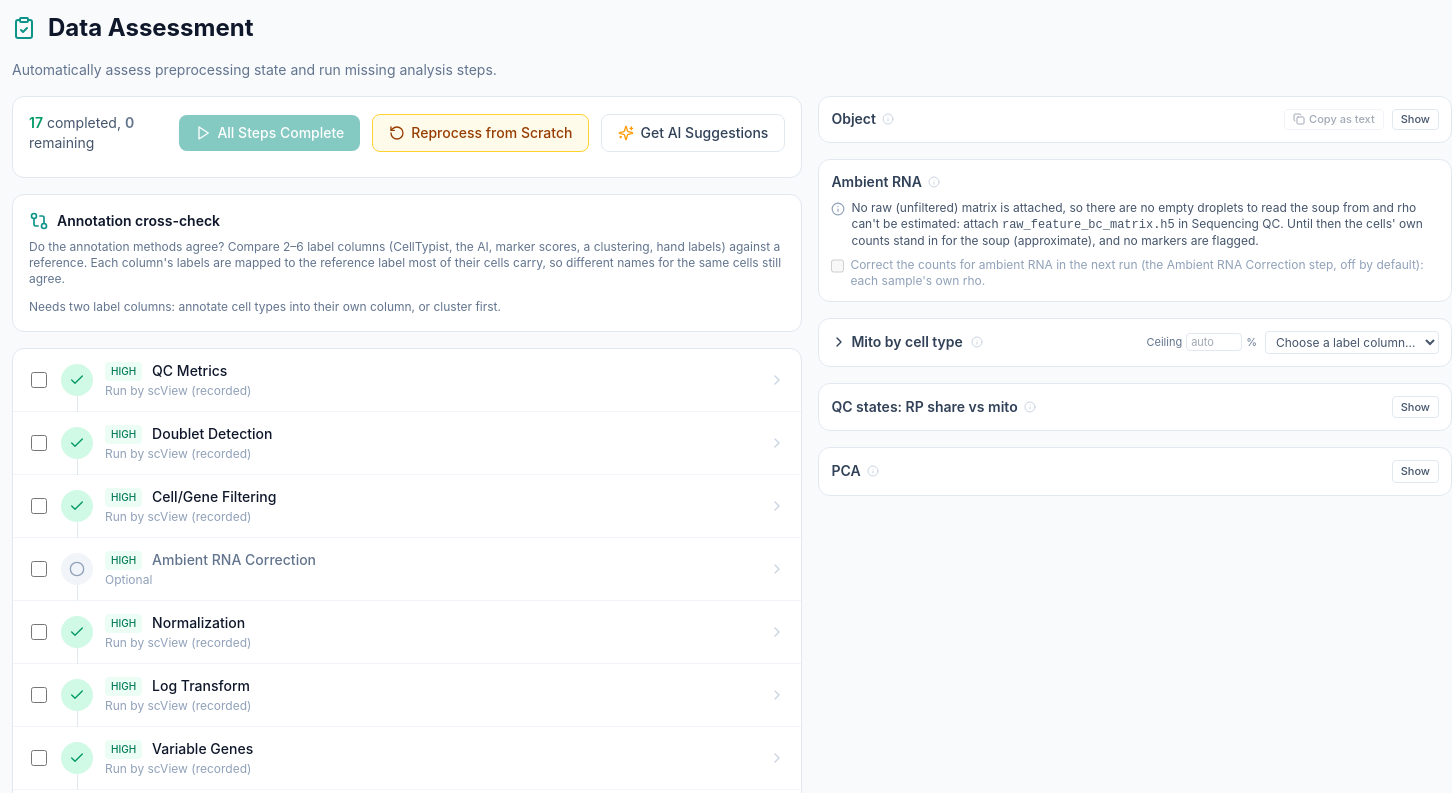
Scenario: DataAssessmentPanel filtering mode › switches mode from the step's own select
Click the text "Cell/Gene Filtering" at (214, 497), box [152, 487, 276, 507]
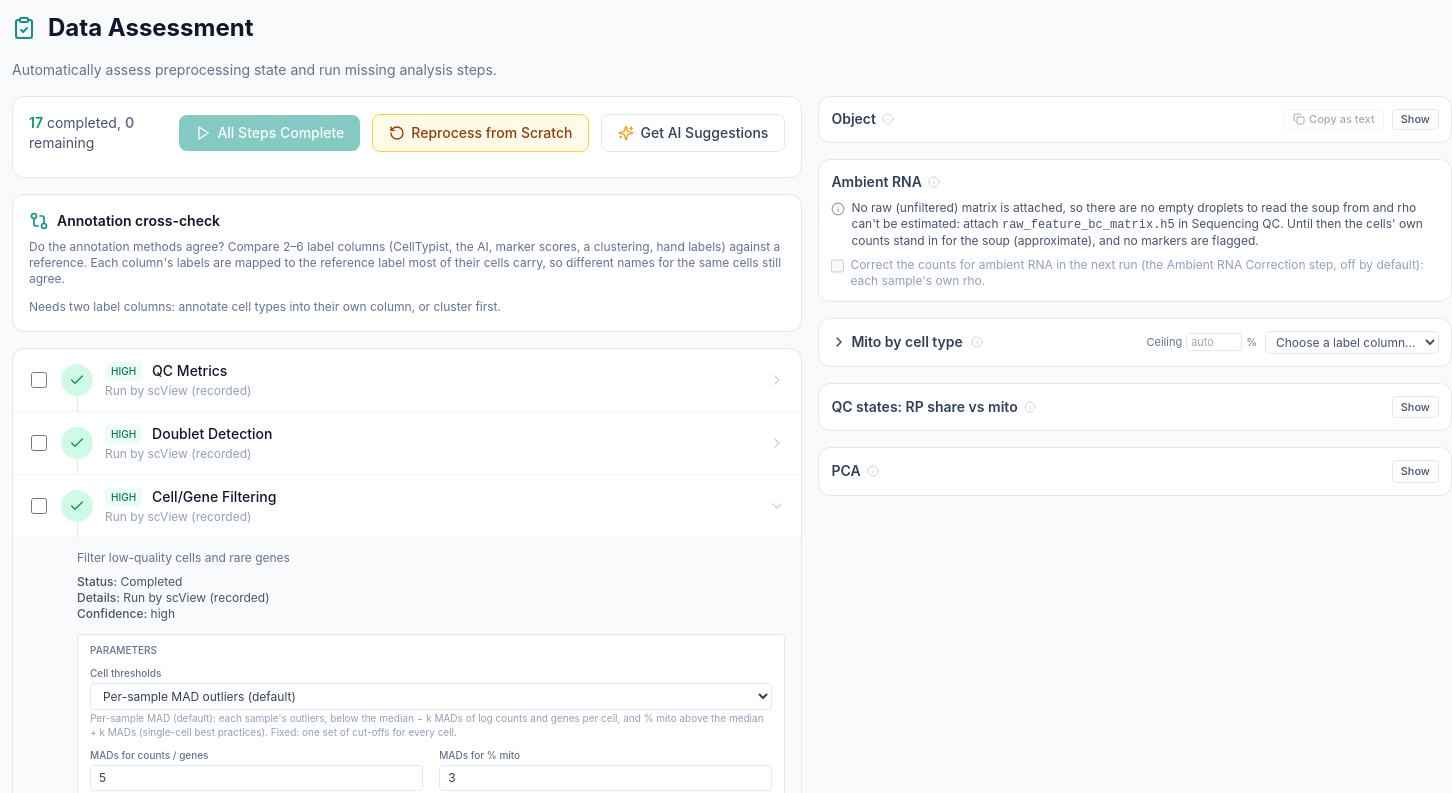
Select "Fixed cut-offs" in the 2nd dropdown at (431, 696), box [90, 683, 772, 710]
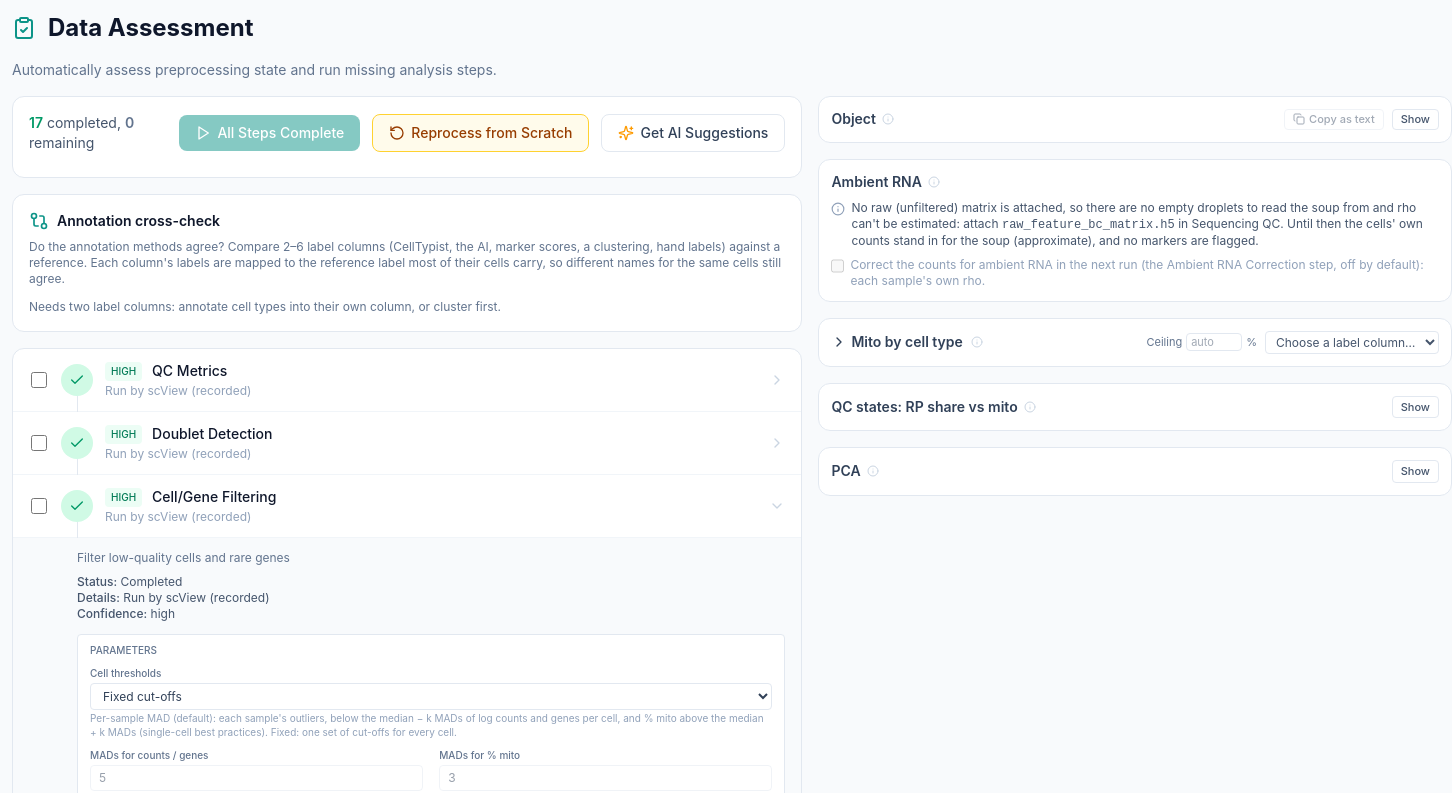
Now the number field below "MADs for counts / genes" is disabled, box [90, 764, 423, 790]
